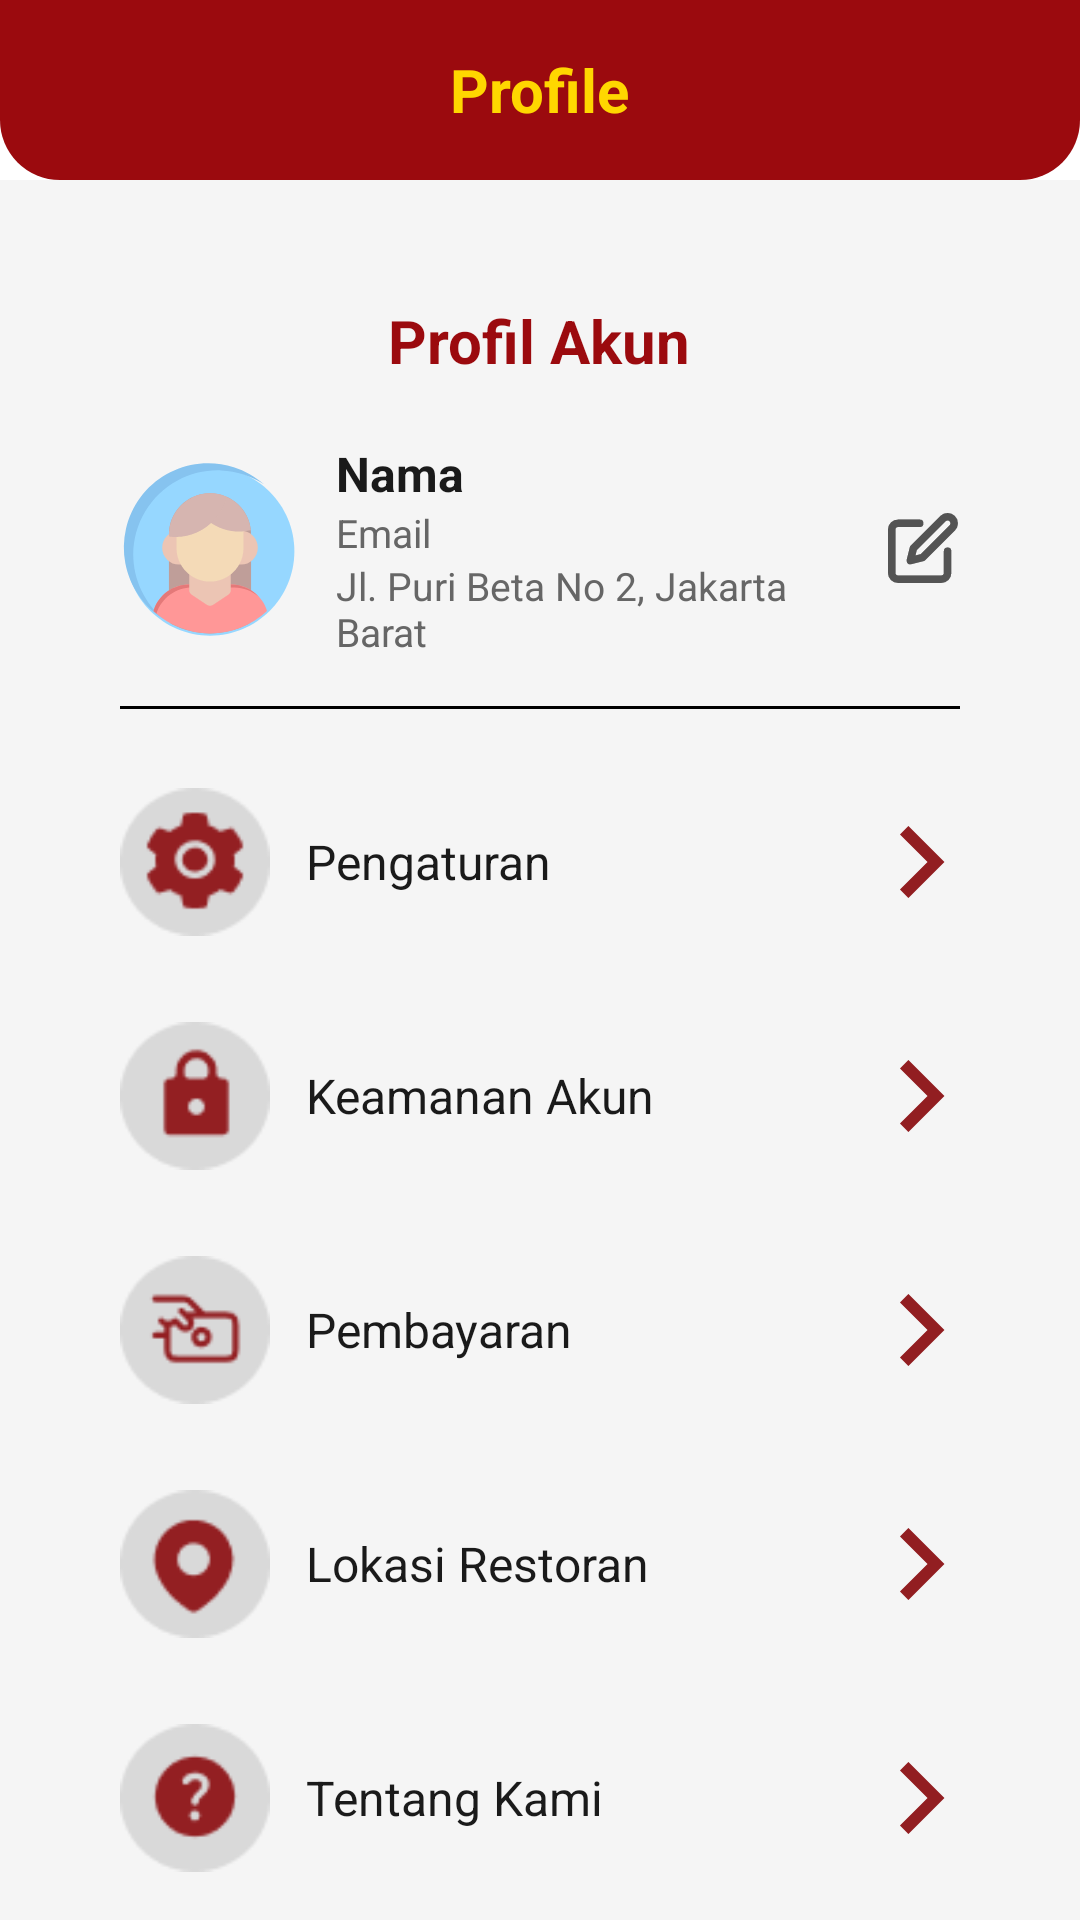

Screen size 1080px×1920px. Icon name, then its center in pixels as [x,y]:
editicon: [923,548]
iconaboutus: [195,1798]
iconkeamanan: [195,1096]
iconlokasi: [195,1564]
profilekanan: [209,549]
redarrow: [922,862], [922,1096], [922,1330], [922,1564], [922,1798]
